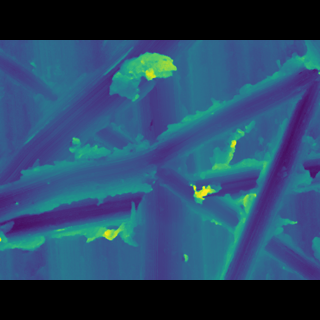Loch: (1, 87, 319, 198), (0, 70, 207, 176), (218, 100, 320, 249), (0, 184, 147, 224)
